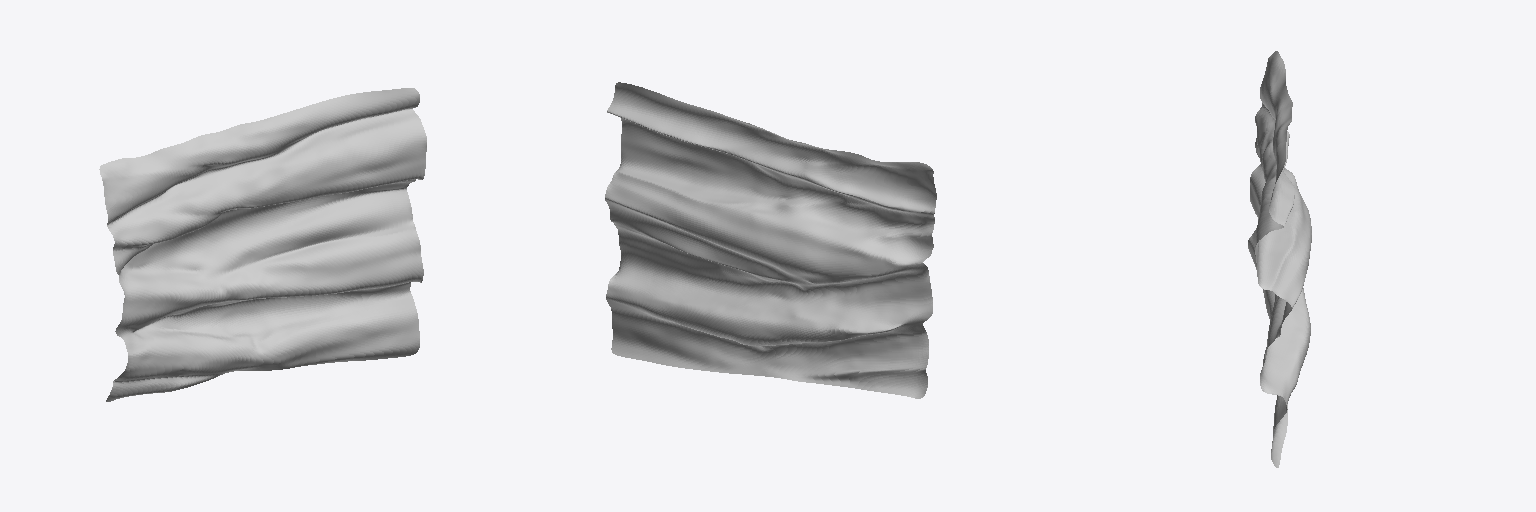
Rendered from SM_Curtain_02_HighPoly_08.OBJ.
The picture shows the model from 3 angles: view 1: azimuth 30°, elevation 25°; view 2: azimuth 150°, elevation 25°; view 3: azimuth 270°, elevation 25°; orthographic projection.
Parts seen in each view (by area): view 1: Group20824; view 2: Group20824; view 3: Group20824.
Part boxes in pixels (x1,y1,x2,y2): Group20824: (99,88,426,401); Group20824: (605,82,936,398); Group20824: (1248,51,1311,467).
Size of the model in its own units: 2.75 by 2.25 by 0.4773.